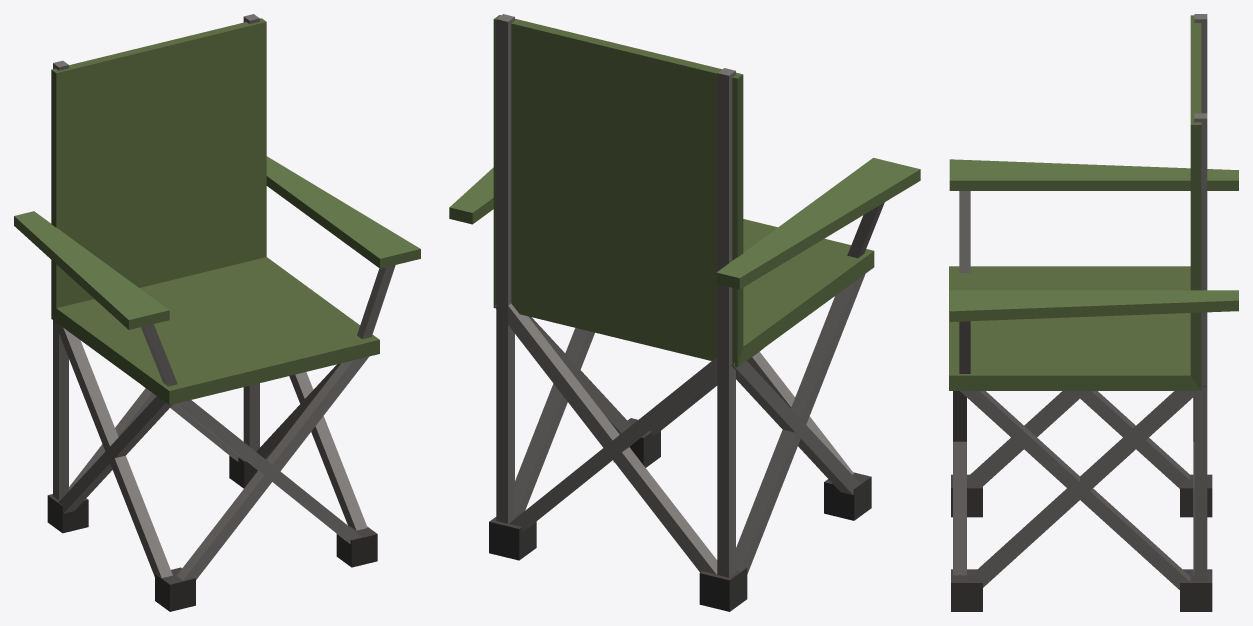
Rendered from SA_Prop_FoldoutChair_01.glb.
The picture shows the model from 3 angles, left to right: view 1: azimuth 30°, elevation 25°; view 2: azimuth 150°, elevation 25°; view 3: azimuth 270°, elevation 25°; orthographic projection. The views are drawn at different scales.
Parts seen in each view (by area): view 1: SA_Prop_FoldoutChair_01; view 2: SA_Prop_FoldoutChair_01; view 3: SA_Prop_FoldoutChair_01.
Boxes of the visible parts, left/top/right/bottom form: SA_Prop_FoldoutChair_01: left=14, top=14, right=420, bottom=611; SA_Prop_FoldoutChair_01: left=449, top=14, right=920, bottom=611; SA_Prop_FoldoutChair_01: left=949, top=14, right=1238, bottom=611.
Bounding box in the file's own units: 0.575 × 0.8661 × 0.463.
1 material, 1 textured.
